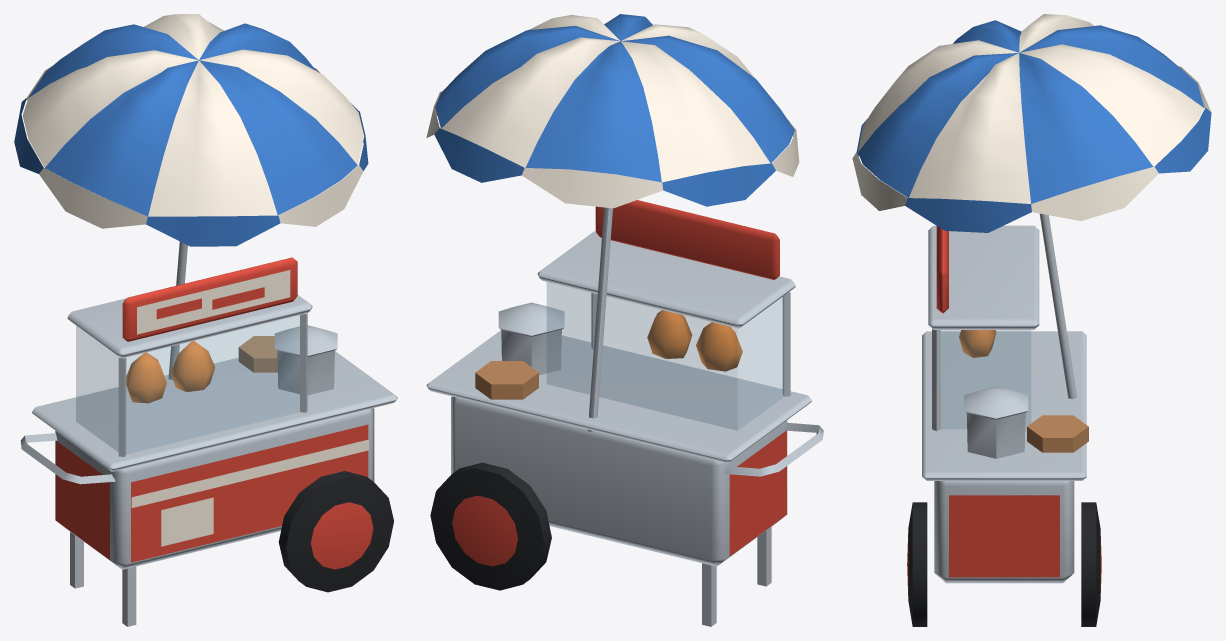
File: prop_food_cart.glb
The picture shows the model from 3 angles, left to right: view 1: azimuth 30°, elevation 25°; view 2: azimuth 150°, elevation 25°; view 3: azimuth 270°, elevation 25°; orthographic projection. The views are drawn at different scales.
Visible parts, largest first — view 1: prop_food_cart; view 2: prop_food_cart; view 3: prop_food_cart.
Part boxes in pixels (<box>): prop_food_cart: <box>14,14,397,626</box>; prop_food_cart: <box>426,14,823,626</box>; prop_food_cart: <box>852,14,1211,626</box>.
Size of the model in its own units: 1.82 by 2.89 by 1.74.
